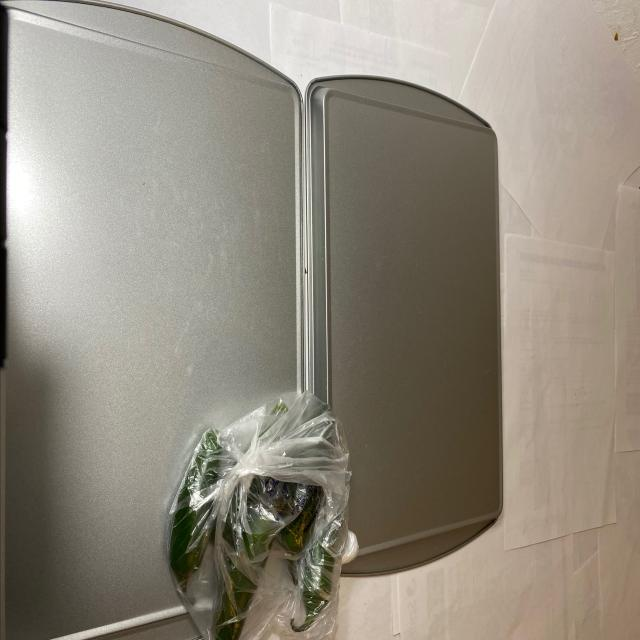chilli: (174, 394, 342, 634)
